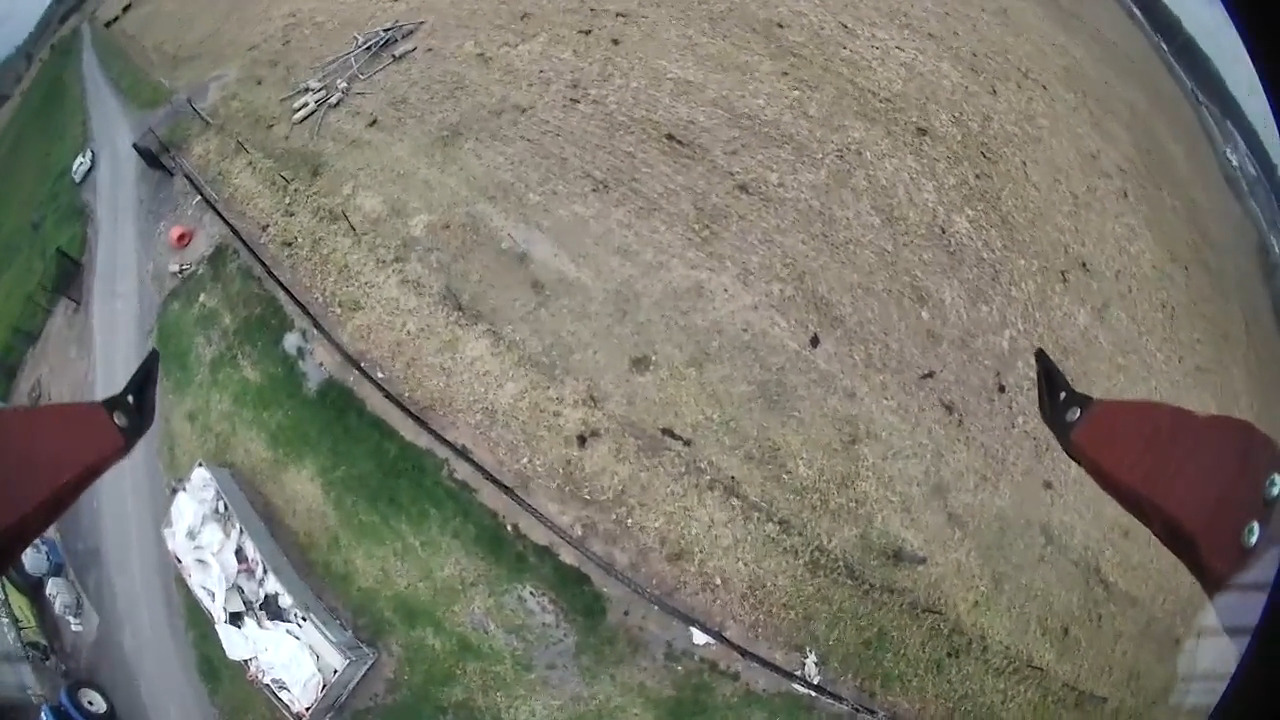Car: (71, 146, 95, 185)
